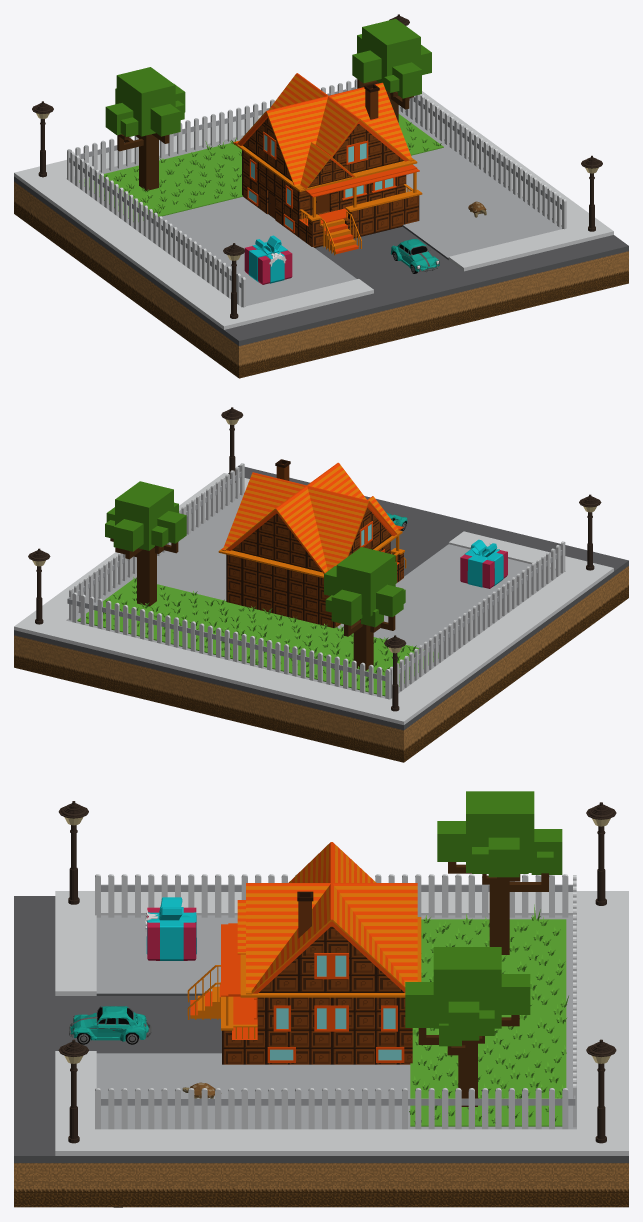
3 renders of one model, top to bottom at view 1: azimuth 30°, elevation 25°; view 2: azimuth 150°, elevation 25°; view 3: azimuth 270°, elevation 25°, orthographic. The views are drawn at different scales.
Parts seen in each view (by area): view 1: Cube.004, Cube, OBJRANDOM_GIANT_PRESENT, VEHICLES_VOLKSWAGEN; view 2: Cube.004, Cube, OBJRANDOM_GIANT_PRESENT; view 3: Cube.004, Cube, OBJRANDOM_GIANT_PRESENT, VEHICLES_VOLKSWAGEN.
Boxes of the visible parts, box(x1,y1,x2,y2) form: Cube.004: box(14, 14, 628, 378); Cube: box(233, 73, 422, 255); OBJRANDOM_GIANT_PRESENT: box(244, 235, 292, 284); VEHICLES_VOLKSWAGEN: box(390, 239, 439, 273); Cube.004: box(14, 407, 628, 762); Cube: box(218, 459, 406, 627); OBJRANDOM_GIANT_PRESENT: box(460, 539, 507, 588); Cube.004: box(14, 791, 628, 1207); Cube: box(187, 842, 421, 1064); OBJRANDOM_GIANT_PRESENT: box(145, 897, 196, 960); VEHICLES_VOLKSWAGEN: box(69, 1006, 151, 1044).
Size of the model in its own units: 4000 by 1574 by 4000.
32 materials, 4 textured.
